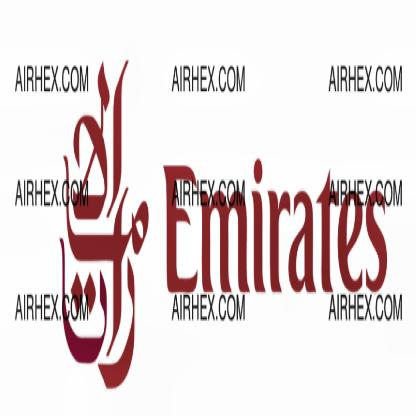Emirates: (161, 153, 389, 293)
